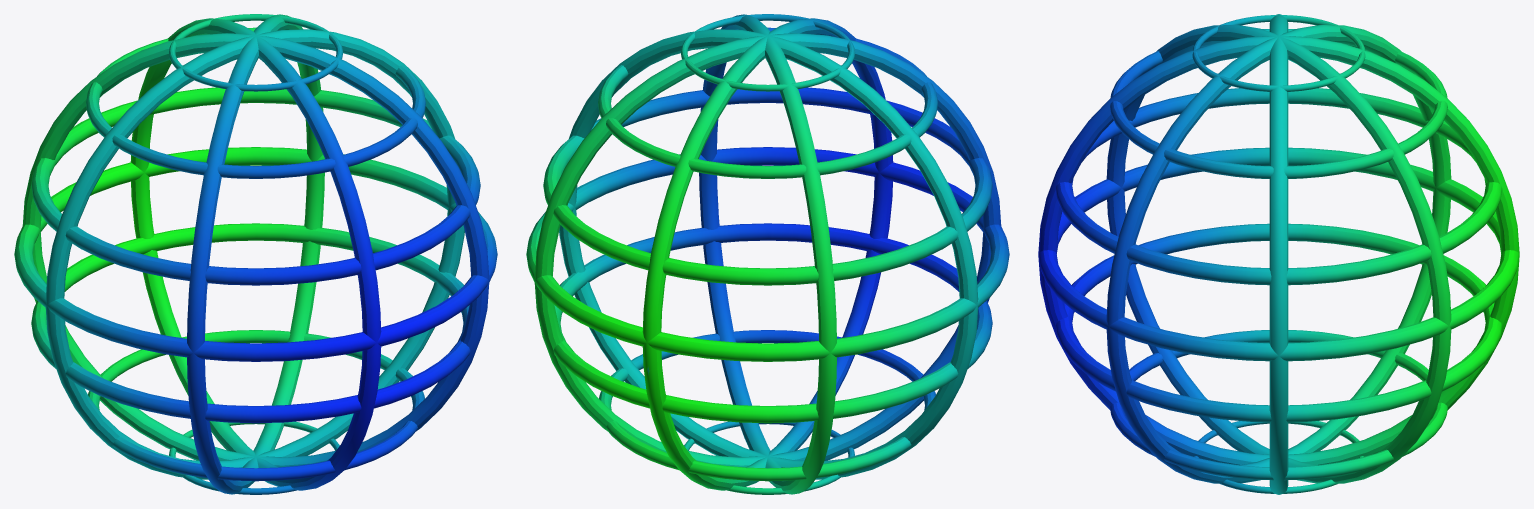
The model's file is Particle-32.dae.
The picture shows the model from 3 angles, left to right: view 1: azimuth 30°, elevation 25°; view 2: azimuth 150°, elevation 25°; view 3: azimuth 270°, elevation 25°; orthographic projection.
Parts seen in each view (by area): view 1: Particle; view 2: Particle; view 3: Particle.
Boxes of the visible parts, x1=… form: Particle: x1=14, y1=14, x2=497, y2=494; Particle: x1=526, y1=14, x2=1009, y2=494; Particle: x1=1038, y1=14, x2=1519, y2=494.
Size of the model in its own units: 0.104 by 0.104 by 0.104.
1 material, 1 textured.
